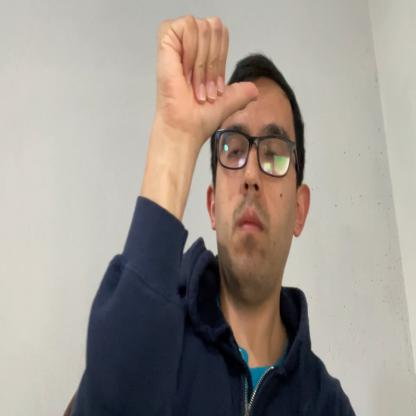A: (157, 14, 260, 138)
